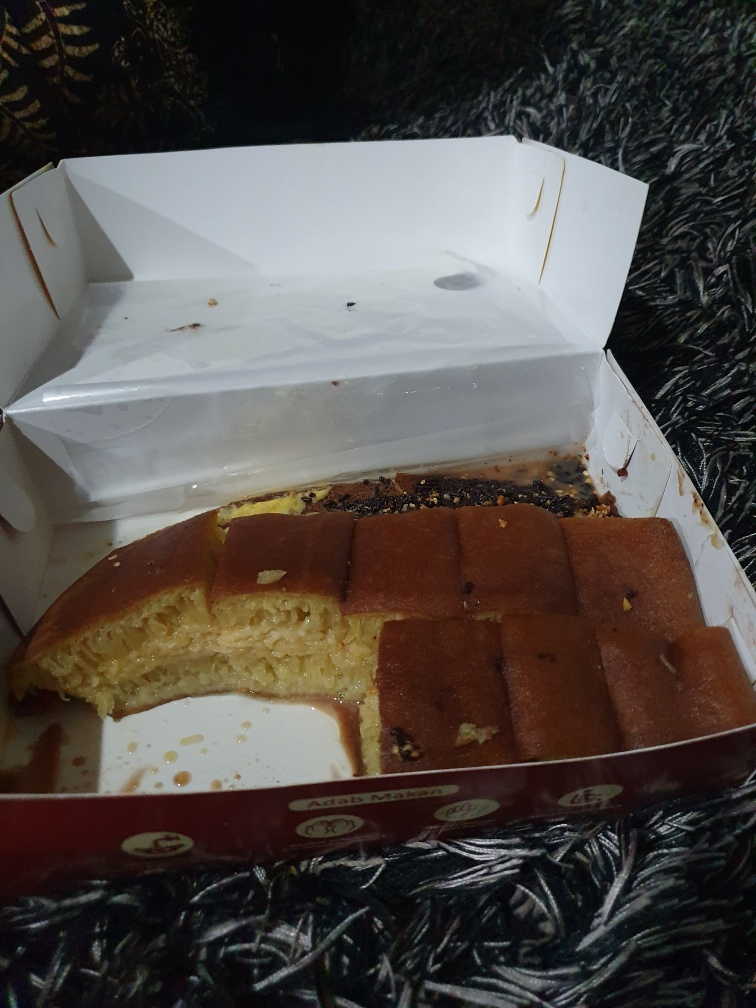martabak manis: (22, 512, 225, 699), (203, 504, 341, 693), (354, 616, 512, 766), (557, 494, 711, 629), (597, 613, 745, 737), (494, 603, 615, 752), (348, 492, 468, 613), (459, 490, 574, 614)
